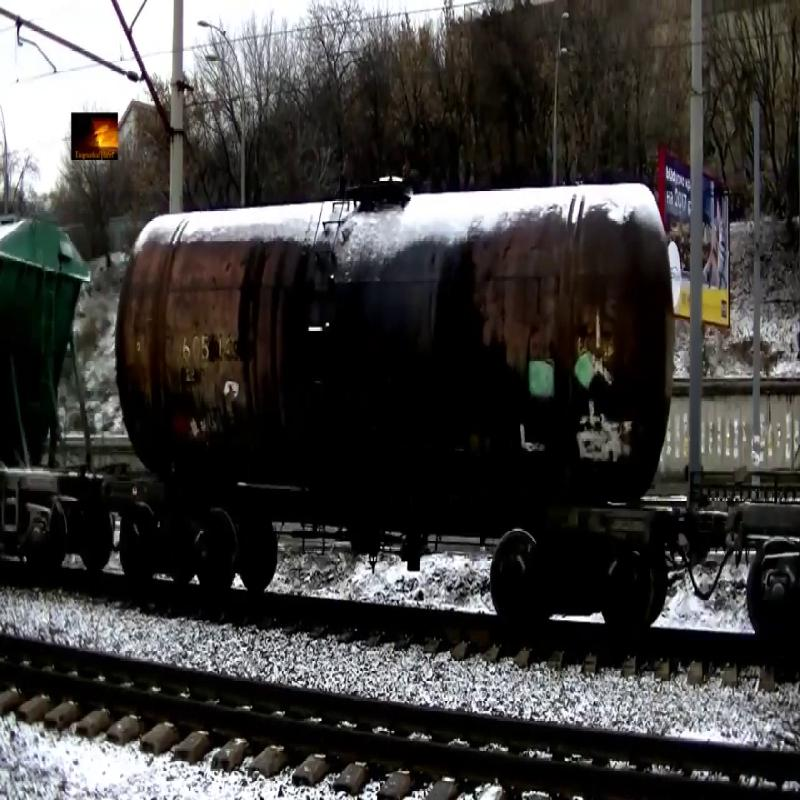train: (114, 166, 681, 525), (1, 204, 97, 535)
